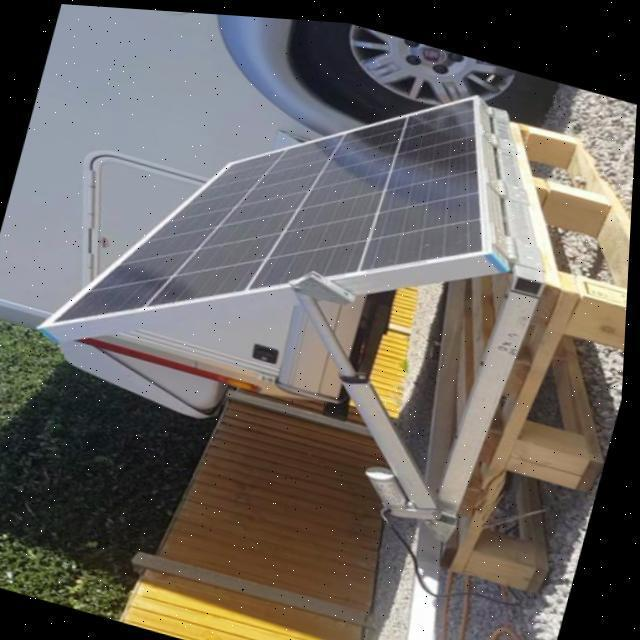Normal Solar Panel: (43, 3, 528, 434)
